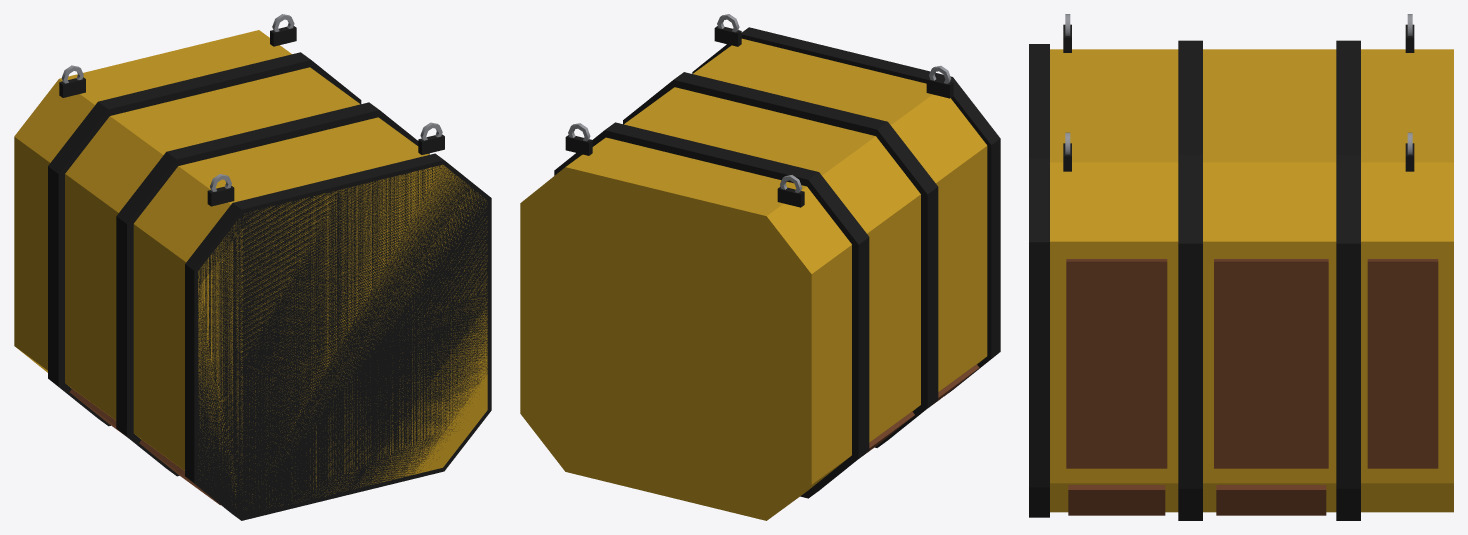
Rendered from kt1_housing.obj.
The picture shows the model from 3 angles, left to right: view 1: azimuth 30°, elevation 25°; view 2: azimuth 150°, elevation 25°; view 3: azimuth 270°, elevation 25°; orthographic projection. The views are drawn at different scales.
Visible parts, largest first — view 1: kt1_housing; view 2: kt1_housing; view 3: kt1_housing.
Part boxes in pixels (bbox=[...]): kt1_housing: bbox=[14, 14, 491, 520]; kt1_housing: bbox=[520, 14, 1000, 520]; kt1_housing: bbox=[1029, 14, 1453, 520].
Bounding box in the file's own units: 2.3 × 2.45 × 2.42.
